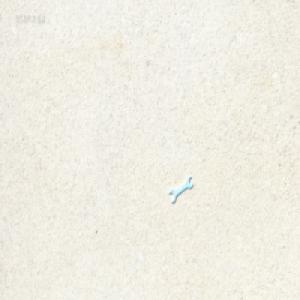Wrench: (167, 173, 192, 202)
